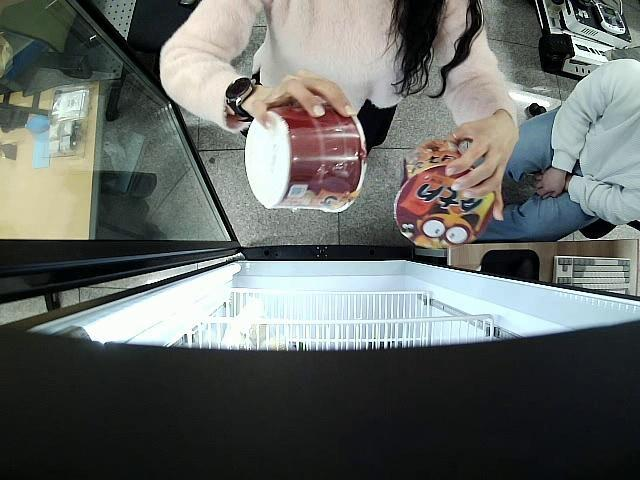05_nuguri_L: (245, 95, 368, 214), (392, 138, 495, 250)
